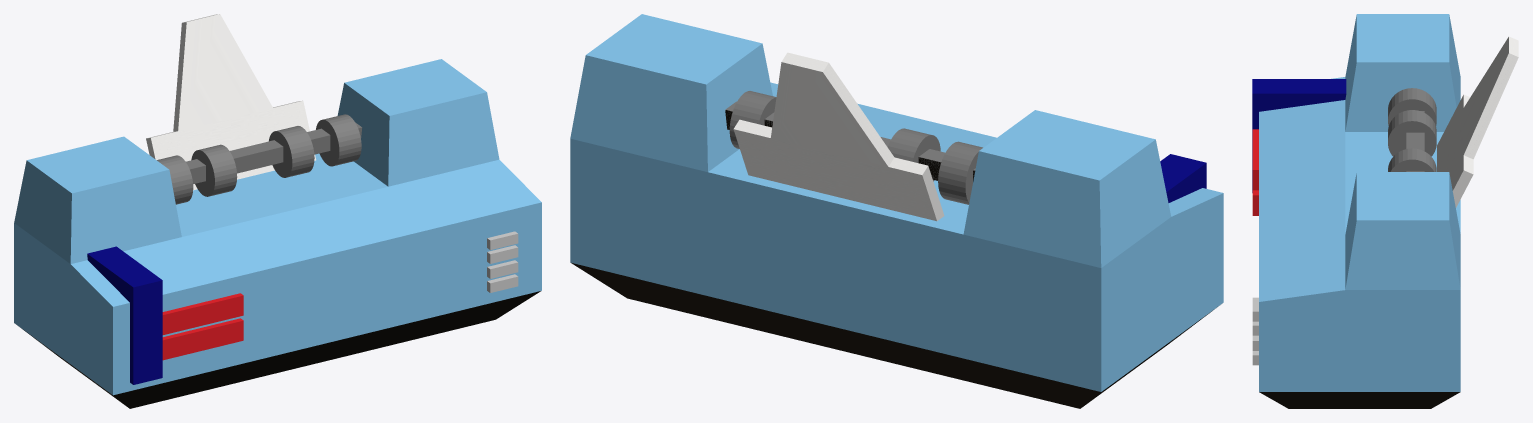
Rendered from CopierProp.fbx.
The picture shows the model from 3 angles, left to right: view 1: azimuth 30°, elevation 25°; view 2: azimuth 150°, elevation 25°; view 3: azimuth 270°, elevation 25°; orthographic projection. The views are drawn at different scales.
Parts seen in each view (by area): view 1: Cube, Cube.005, Cylinder.003, Cube.010, Cube.004, Cube.009; view 2: Cube, Cube.005, Cylinder.003, Cube.010; view 3: Cube, Cube.005, Cylinder.003, Cube.010, Cube.004, Cube.009.
Boxes of the visible parts, x1,y1,x2,y2 form: Cube: [14, 59, 541, 408]; Cube.005: [146, 14, 316, 190]; Cylinder.003: [157, 114, 361, 204]; Cube.010: [87, 246, 162, 384]; Cube.004: [162, 293, 243, 360]; Cube.009: [487, 231, 518, 292]; Cube: [570, 14, 1223, 408]; Cube.005: [733, 52, 944, 221]; Cylinder.003: [729, 91, 982, 204]; Cube.010: [1160, 154, 1206, 202]; Cube: [1259, 14, 1460, 408]; Cube.005: [1437, 36, 1518, 207]; Cylinder.003: [1388, 88, 1436, 171]; Cube.010: [1252, 79, 1346, 192]; Cube.004: [1252, 129, 1258, 215]; Cube.009: [1252, 297, 1258, 365].
Size of the model in its own units: 369 by 220 by 195.
